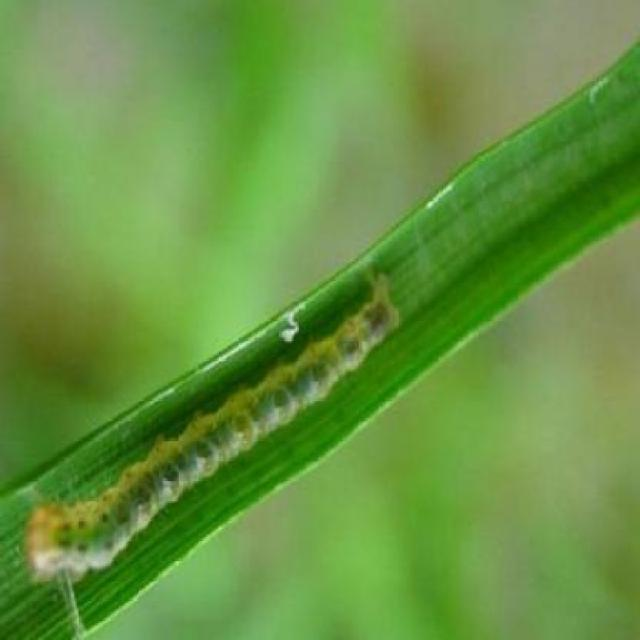leaf-folder: (0, 258, 406, 600)
